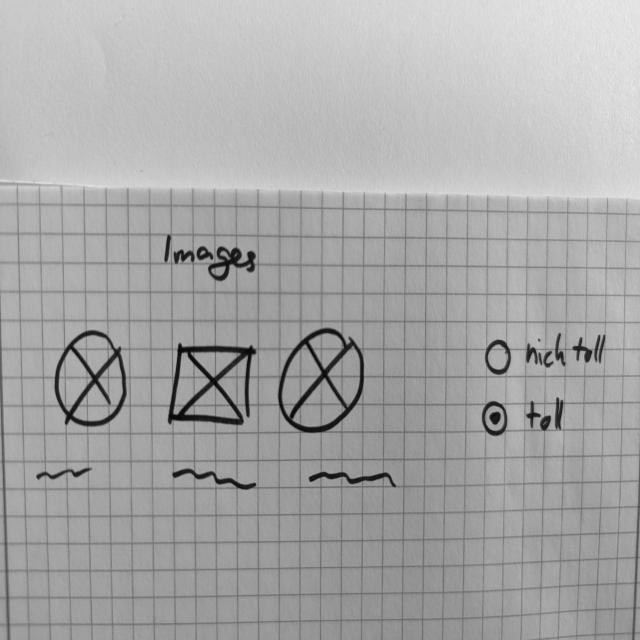image: (277, 324, 368, 438), (168, 341, 255, 430), (55, 329, 130, 431)
label: (160, 231, 263, 285)
radio: (484, 331, 610, 378), (480, 398, 570, 440)
text: (170, 465, 260, 497), (308, 468, 401, 494), (35, 462, 97, 489)
